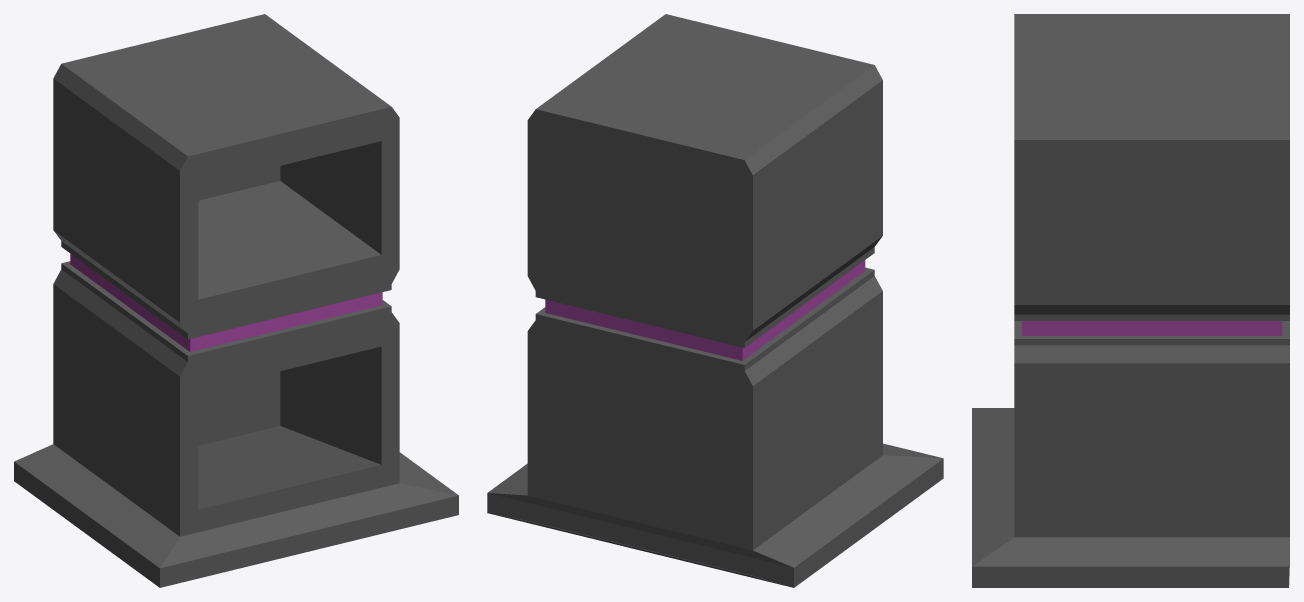
Rendered from Casier 2.fbx.
3 renders of one model, left to right at view 1: azimuth 30°, elevation 25°; view 2: azimuth 150°, elevation 25°; view 3: azimuth 270°, elevation 25°, orthographic. The views are drawn at different scales.
Parts seen in each view (by area): view 1: Casier1; view 2: Casier1; view 3: Casier1.
Boxes of the visible parts, x1=… form: Casier1: x1=14, y1=14, x2=458, y2=587; Casier1: x1=487, y1=14, x2=943, y2=587; Casier1: x1=972, y1=14, x2=1289, y2=587.
Bounding box in the file's own units: 4.94 × 6.41 × 4.19.
